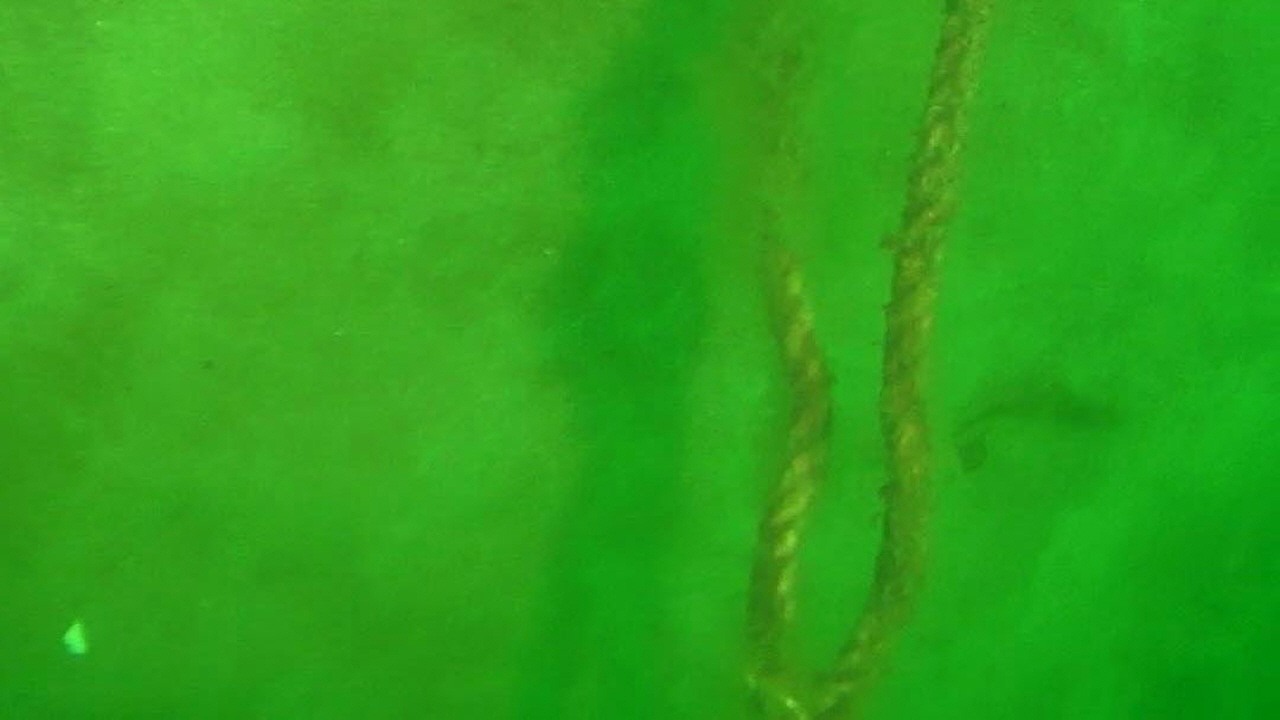rope: (745, 0, 993, 720)
